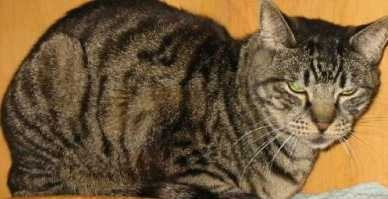Cat: (2, 0, 319, 198), (159, 0, 387, 198)
